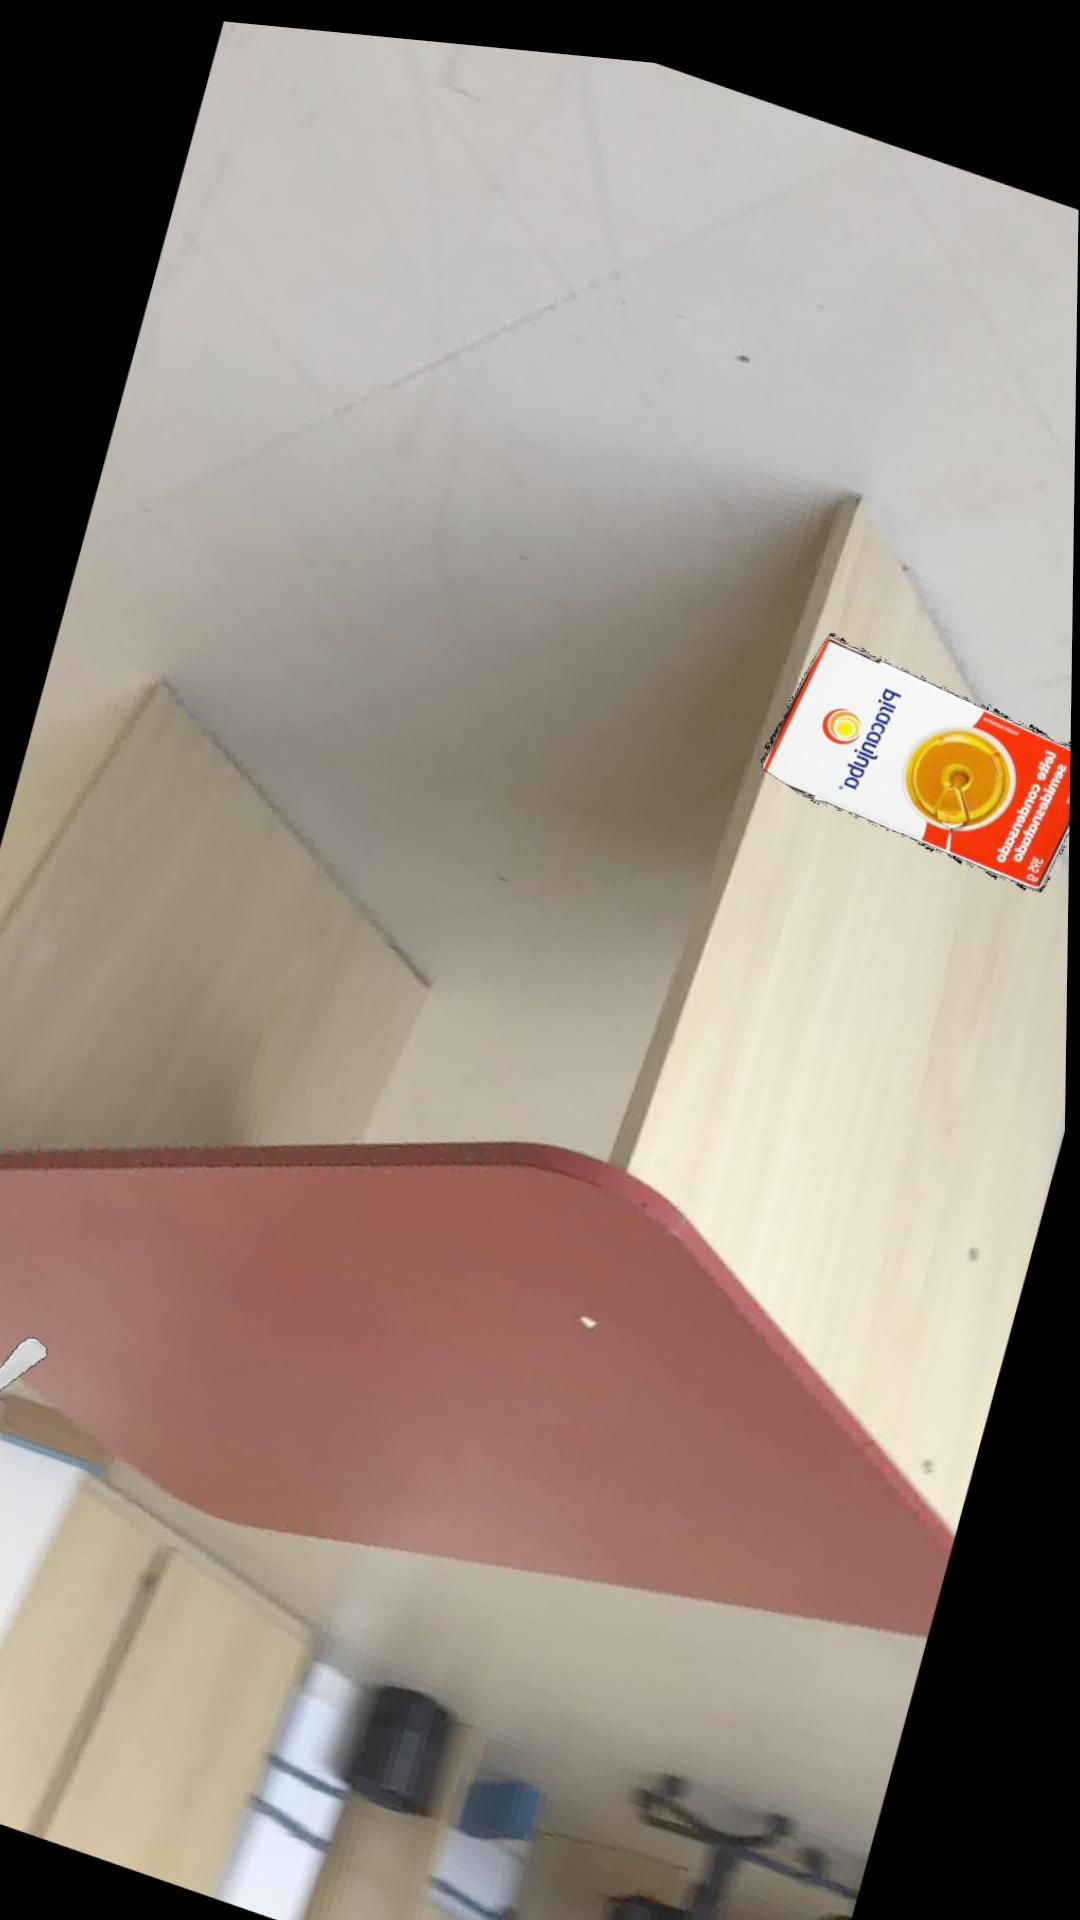fork: (0, 1336, 49, 1393)
